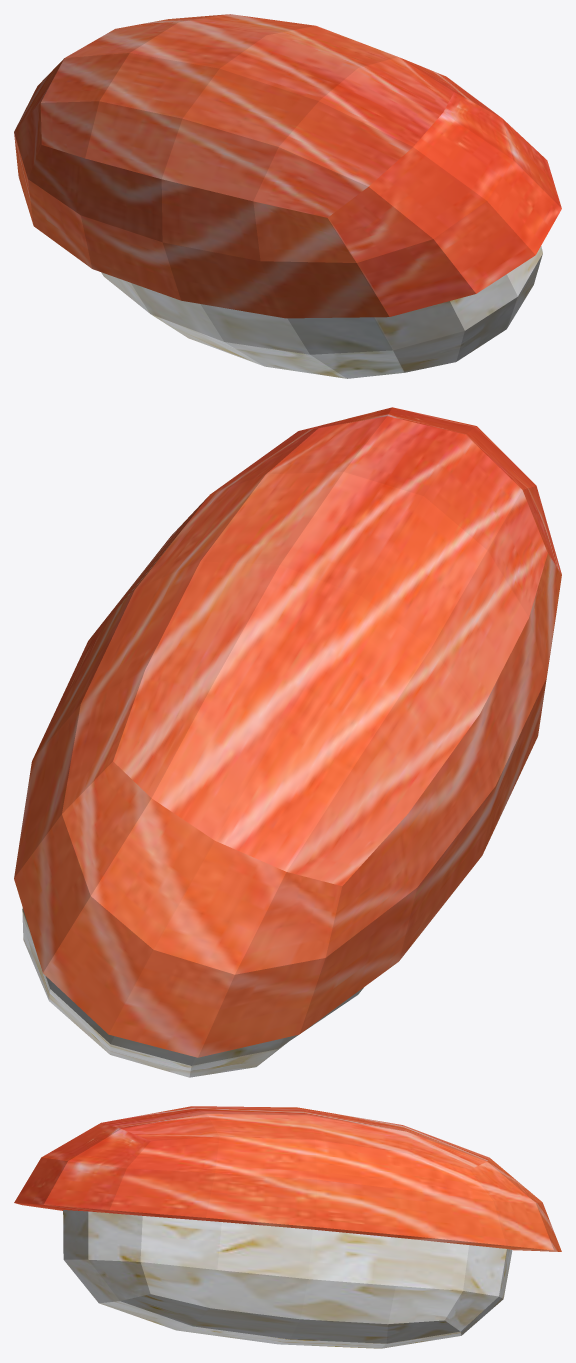
The model's file is Sushi.glb.
3 renders of one model, top to bottom at view 1: azimuth 30°, elevation 25°; view 2: azimuth 150°, elevation 25°; view 3: azimuth 270°, elevation 25°, orthographic. The views are drawn at different scales.
Parts seen in each view (by area): view 1: Cube.001, Cube; view 2: Cube.001, Cube; view 3: Cube.001, Cube.
Boxes of the visible parts, x1=… form: Cube.001: x1=14, y1=14, x2=561, y2=318; Cube: x1=101, y1=246, x2=542, y2=378; Cube.001: x1=14, y1=407, x2=561, y2=1057; Cube: x1=22, y1=908, x2=363, y2=1077; Cube.001: x1=14, y1=1106, x2=561, y2=1251; Cube: x1=63, y1=1210, x2=512, y2=1348.
Bounding box in the file's own units: 2.02 × 2.07 × 4.29.
Materials: 2 (2 with a texture image).
